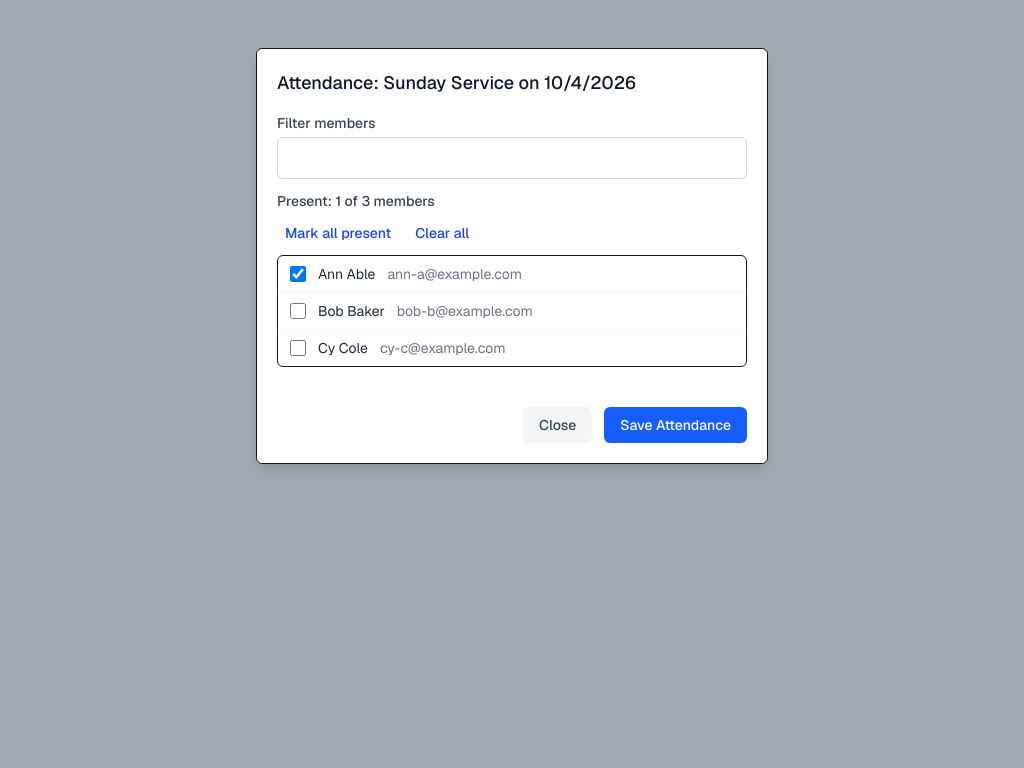
Test: AttendanceSheet › shows a failed save as an alert
expect the checkbox labelled "Ann Able" is shown: met, box [290, 266, 306, 282]
Click the button "Save Attendance" at (676, 425), box [604, 407, 747, 443]
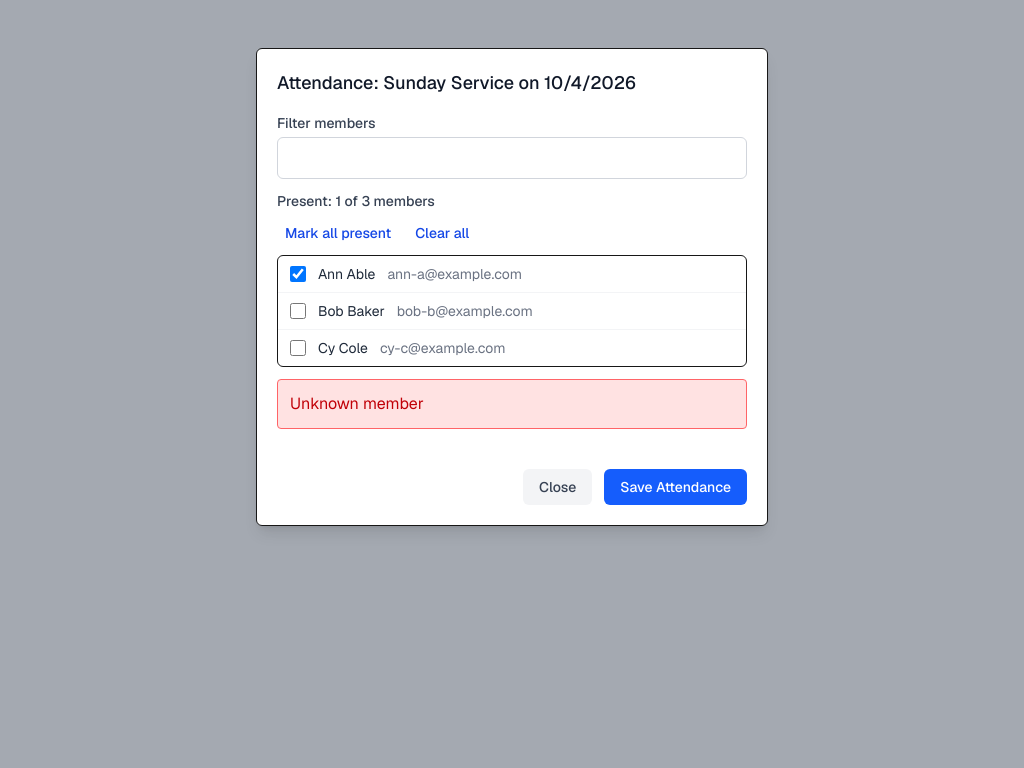
expect the message "Unknown member" is shown: met, box [277, 379, 747, 429]
